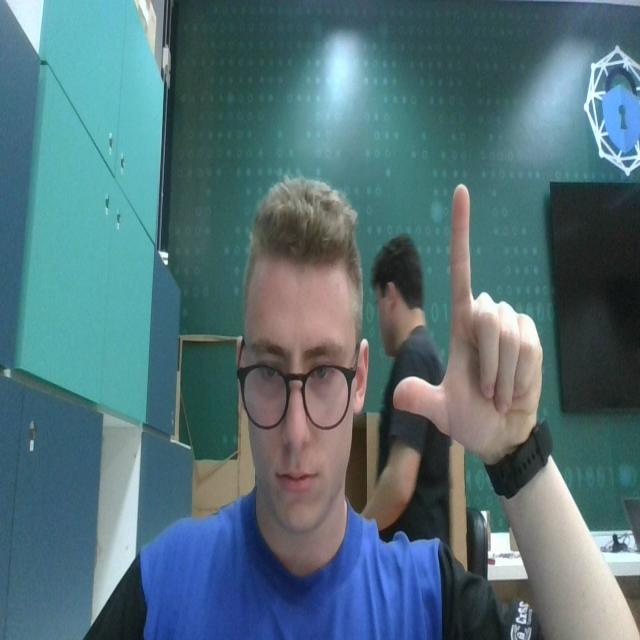L: (391, 185, 547, 443)
